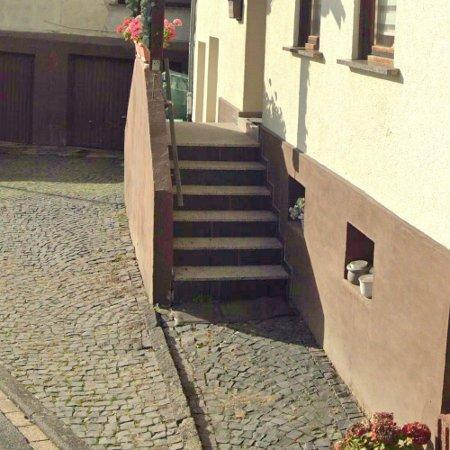stairs: (173, 123, 288, 303)
